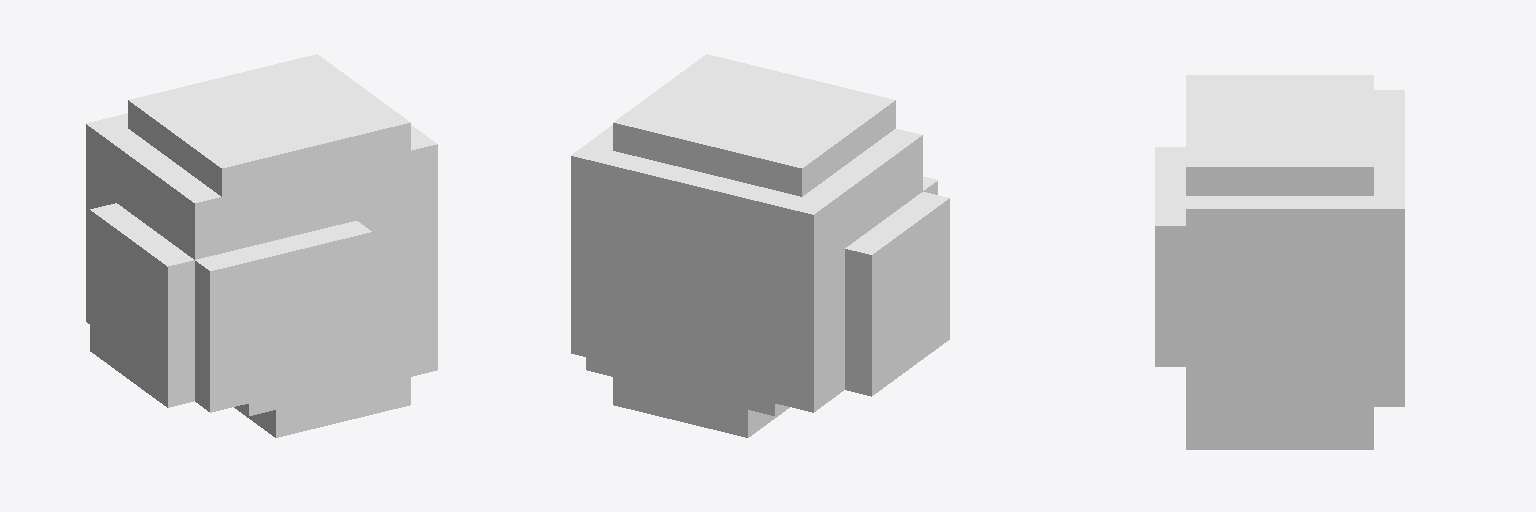
The model's file is hands-0-HandL.obj.
3 views of the same model, side by side, from view 1: azimuth 30°, elevation 25°; view 2: azimuth 150°, elevation 25°; view 3: azimuth 270°, elevation 25° (orthographic).
Visible parts, largest first — view 1: HandL; view 2: HandL; view 3: HandL.
Part boxes in pixels (x1,y1,x2,y2): HandL: (86,54,437,437); HandL: (571,54,949,437); HandL: (1155,75,1404,449).
Size of the model in its own units: 1 by 1 by 0.8.